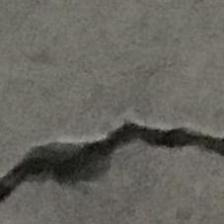Crack: (0, 102, 224, 224)
